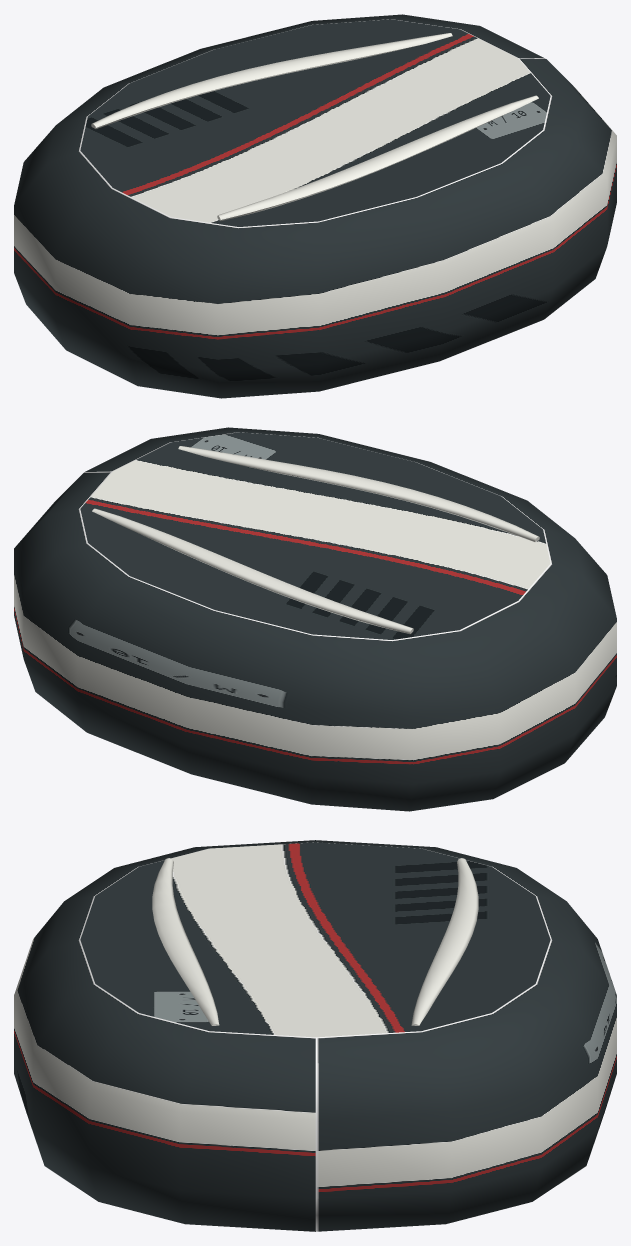
File: MotorCowl_10_R_外舷・群青.glb
The picture shows the model from 3 angles, top to bottom: view 1: azimuth 30°, elevation 25°; view 2: azimuth 150°, elevation 25°; view 3: azimuth 270°, elevation 25°; orthographic projection. The views are drawn at different scales.
Parts seen in each view (by area): view 1: MotorCowl_10_R; view 2: MotorCowl_10_R; view 3: MotorCowl_10_R.
Boxes of the visible parts, left/top/right/bottom form: MotorCowl_10_R: left=14, top=14, right=616, bottom=398; MotorCowl_10_R: left=14, top=427, right=616, bottom=811; MotorCowl_10_R: left=14, top=840, right=616, bottom=1231.
Size of the model in its own units: 0.332 by 0.1188 by 0.286.
Materials: 1 (1 with a texture image).
